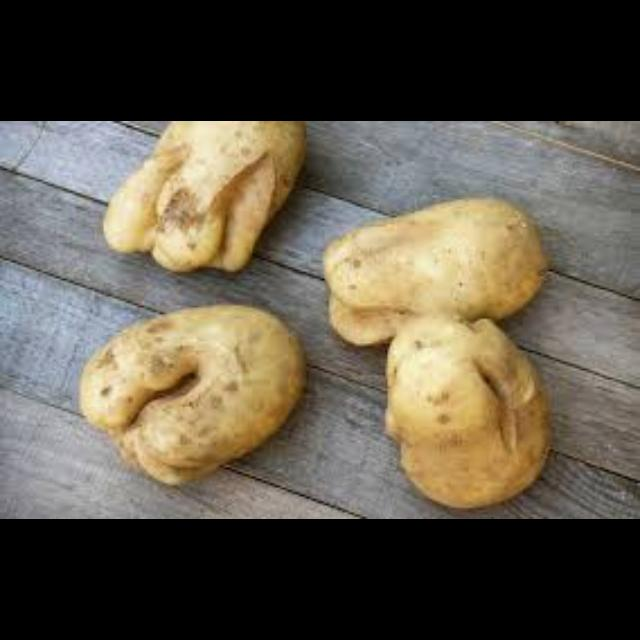Damaged potato: (74, 302, 310, 488), (308, 195, 554, 342), (377, 307, 553, 508), (111, 124, 305, 276)
